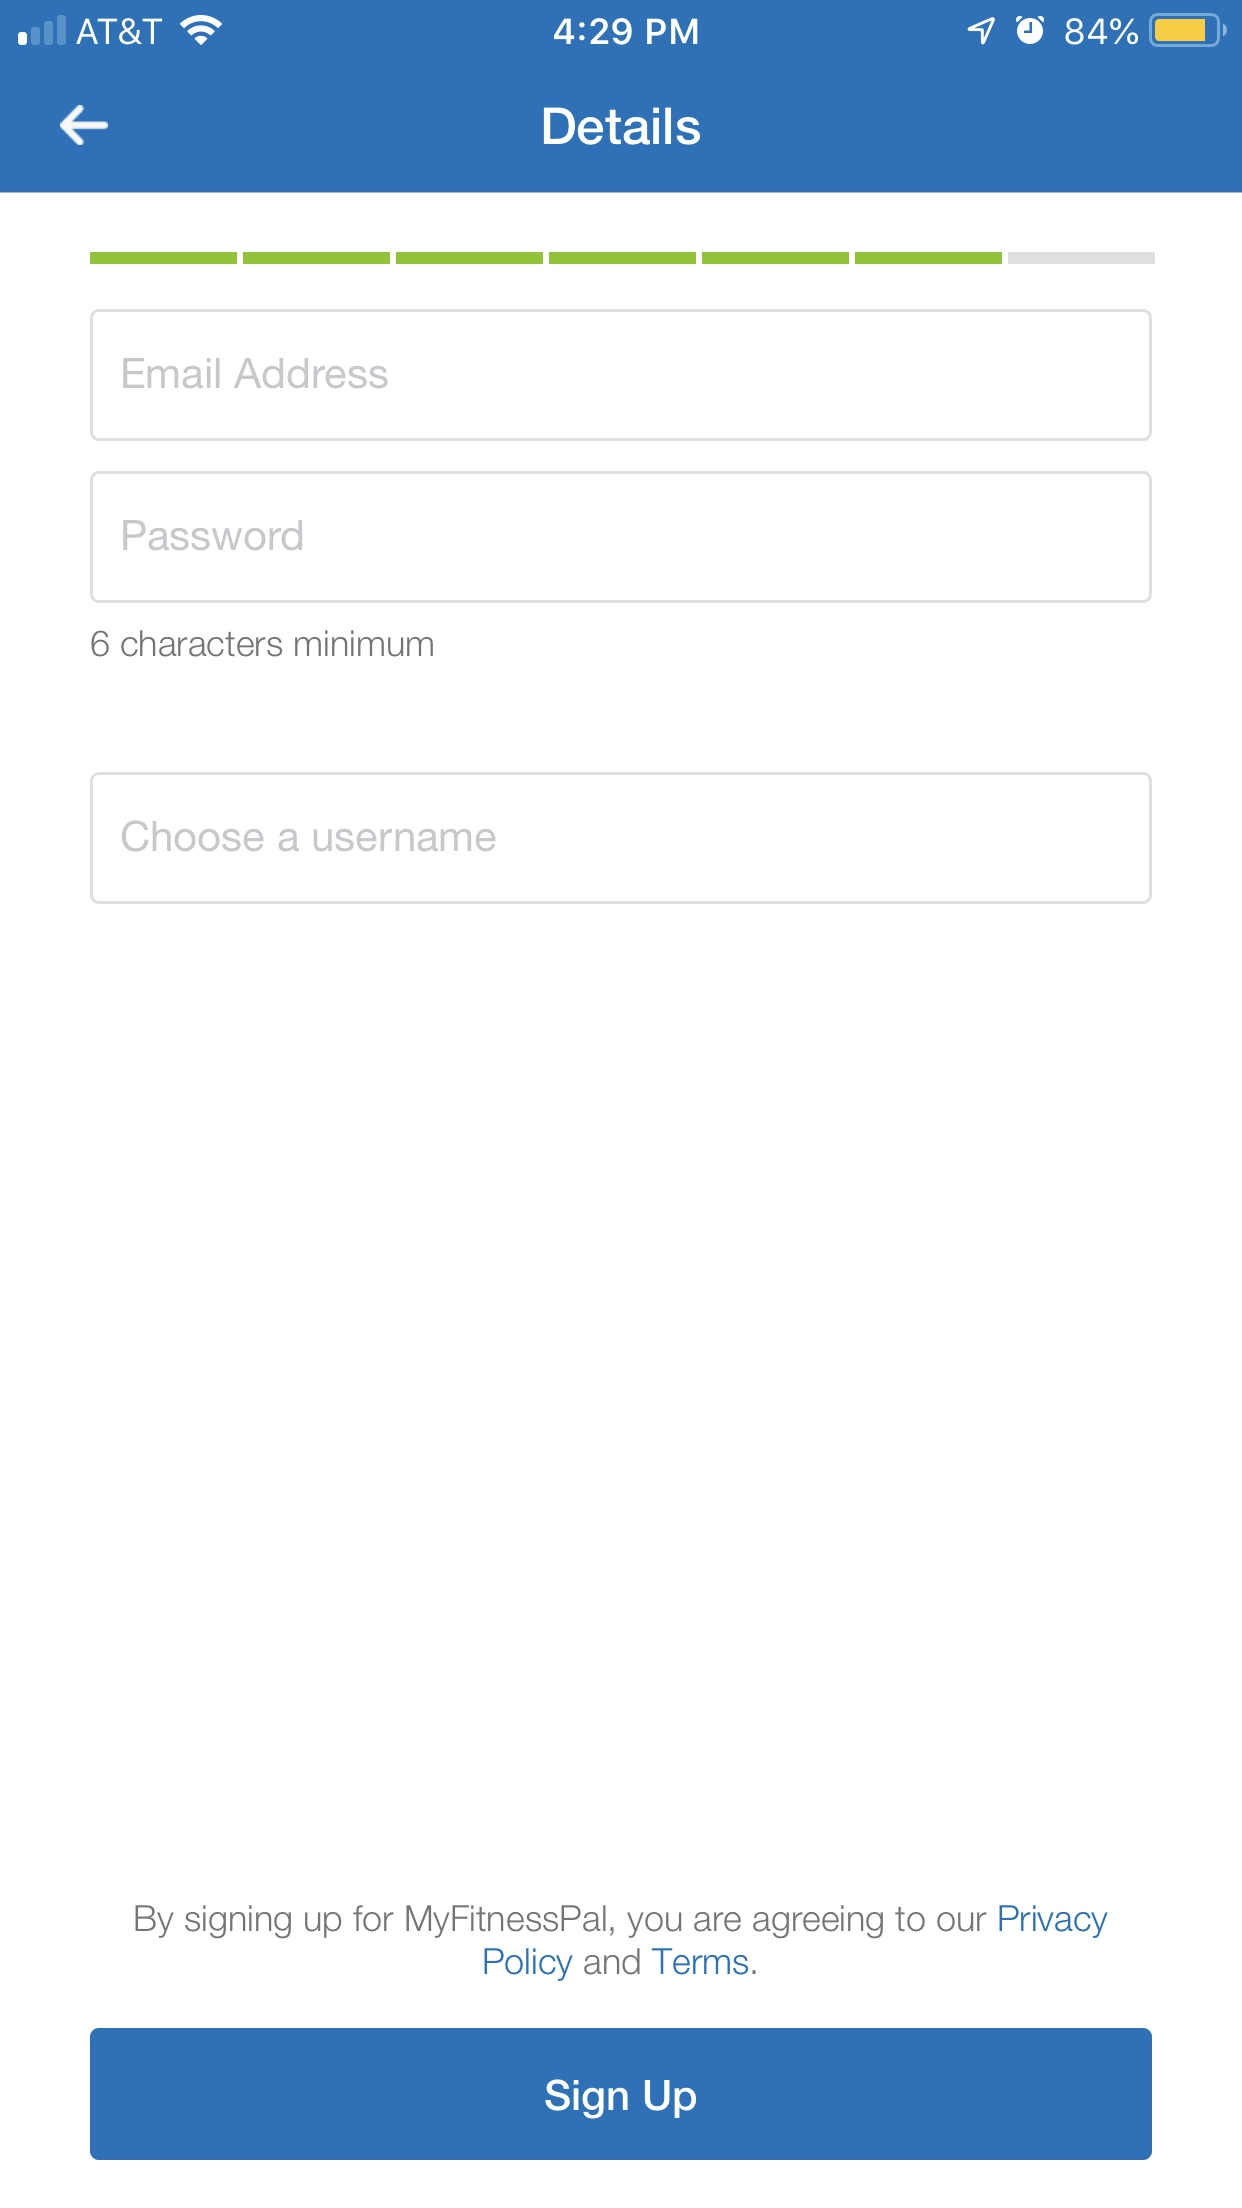EditText: (91, 772, 1153, 905), (91, 472, 1153, 604), (91, 309, 1153, 441)
Icon: (59, 105, 111, 149)
PageIndicator: (91, 252, 1156, 265)
Text: (136, 1905, 1109, 1982), (121, 820, 497, 852), (93, 629, 435, 658), (124, 359, 390, 390), (543, 106, 702, 147), (124, 520, 303, 552)
TextButton: (89, 2028, 1153, 2159)
UpperTaskBar: (2, 2, 1242, 53)
